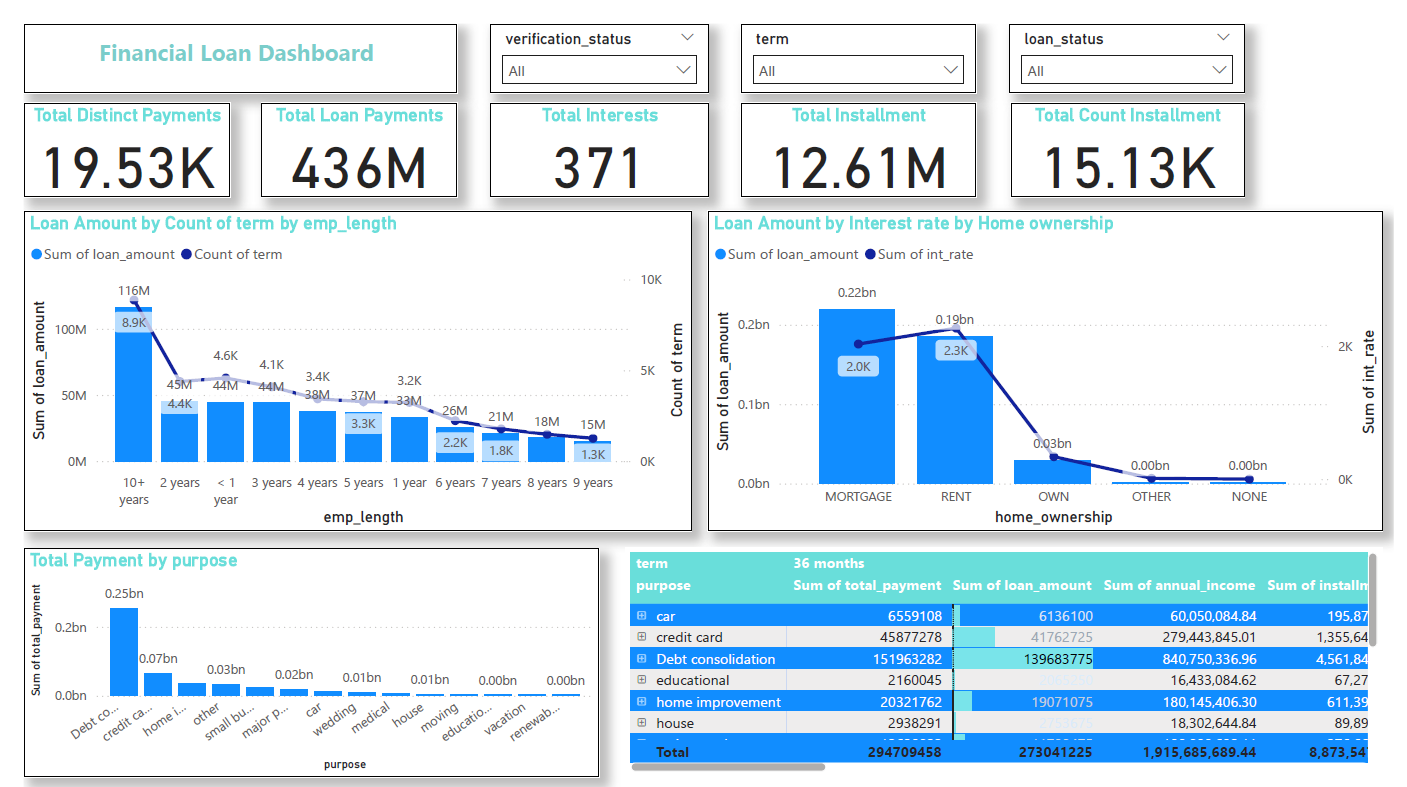

Layout of this report page (visuals, bound fields, positions):
{"tool":"powerbi","page":{"name":"Page 1","canvas":[1280,720],"ordinal":0},"visuals":[{"type":"textbox","box":[0,0,405,65],"z":0},{"type":"slicer","fields":{"Values":["financial_loan.verification_status"]},"box":[436.2,0,203.8,65],"z":1000},{"type":"slicer","fields":{"Values":["financial_loan.term"]},"box":[670,0,220,65],"z":2000},{"type":"slicer","fields":{"Values":["financial_loan.loan_status"]},"box":[921.2,0,220,65],"z":3000},{"type":"card","title":"Total Distinct Payments","fields":{"Values":["Count(financial_loan.total_payment)"]},"box":[0,74,193.2,87.7],"z":4000},{"type":"card","title":"Total Loan Payments","fields":{"Values":["Sum(financial_loan.loan_amount)"]},"box":[221.9,74,183.6,87.7],"z":5000},{"type":"card","title":"Total Interests","fields":{"Values":["Count(financial_loan.int_rate)"]},"box":[435.6,74,204.1,87.7],"z":6000},{"type":"card","title":"Total Installment","fields":{"Values":["Sum(financial_loan.installment)"]},"box":[669.9,74,220.5,87.7],"z":7000},{"type":"card","title":"Total Count Installment","fields":{"Values":["Count(financial_loan.installment)"]},"box":[921.9,74,219.2,87.7],"z":8000},{"type":"lineStackedColumnComboChart","title":"Loan Amount by Count of term by emp_length","fields":{"Category":["financial_loan.emp_length"],"Y":["Sum(financial_loan.loan_amount)"],"Y2":["CountNonNull(financial_loan.term)"]},"box":[0,175,623.7,298.7],"z":9000},{"type":"lineStackedColumnComboChart","title":"Loan Amount by Interest rate by Home ownership","fields":{"Y":["Sum(financial_loan.loan_amount)"],"Category":["financial_loan.home_ownership"],"Y2":["Sum(financial_loan.int_rate)"]},"box":[639.5,175,630.3,298.7],"z":10000},{"type":"columnChart","title":"Total Payment by purpose","fields":{"Y":["Sum(financial_loan.total_payment)"],"Category":["financial_loan.purpose"]},"box":[0,490.4,538.4,213.7],"z":11000},{"type":"pivotTable","fields":{"Rows":["financial_loan.purpose","financial_loan.verification_status","financial_loan.issue_date","financial_loan.last_credit_pull_date","financial_loan.last_payment_date","financial_loan.home_ownership","financial_loan.application_type","financial_loan.loan_status"],"Values":["Sum(financial_loan.total_payment)","Sum(financial_loan.loan_amount)","Sum(financial_loan.annual_income)","Sum(financial_loan.installment)","Sum(financial_loan.int_rate)"],"Columns":["financial_loan.term"]},"box":[561.8,489.5,707.9,214.5],"z":12000}]}

Visuals, with their boxes in screenshot pixels (x1, y1, x2, y2), scaled from the page's 1280x720 canvas onto the 1407x787 screenshot:
textbox: (left=0, top=0, right=445, bottom=71)
slicer - financial_loan.verification_status: (left=479, top=0, right=704, bottom=71)
slicer - financial_loan.term: (left=736, top=0, right=978, bottom=71)
slicer - financial_loan.loan_status: (left=1013, top=0, right=1254, bottom=71)
"Total Distinct Payments" card: (left=0, top=81, right=212, bottom=177)
"Total Loan Payments" card: (left=244, top=81, right=446, bottom=177)
"Total Interests" card: (left=479, top=81, right=703, bottom=177)
"Total Installment" card: (left=736, top=81, right=979, bottom=177)
"Total Count Installment" card: (left=1013, top=81, right=1254, bottom=177)
"Loan Amount by Count of term by emp_length" lineStackedColumnComboChart: (left=0, top=191, right=686, bottom=518)
"Loan Amount by Interest rate by Home ownership" lineStackedColumnComboChart: (left=703, top=191, right=1396, bottom=518)
"Total Payment by purpose" columnChart: (left=0, top=536, right=592, bottom=770)
pivotTable - financial_loan.purpose x financial_loan.verification_status: (left=618, top=535, right=1396, bottom=770)
